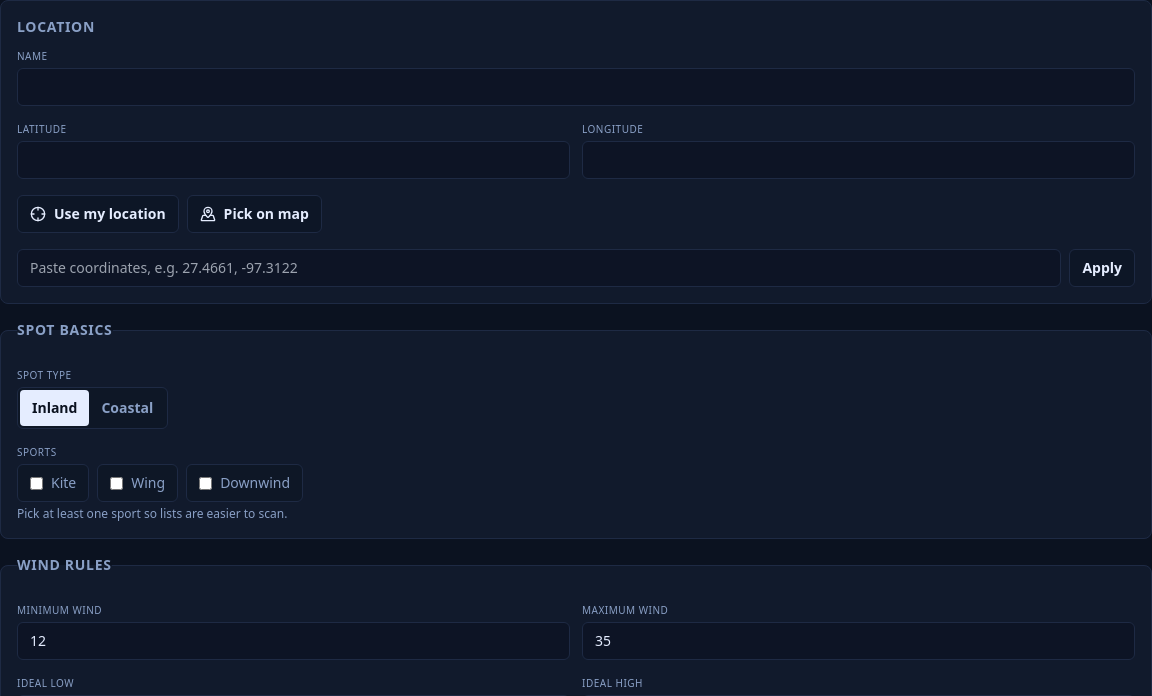
Test: SpotForm › applies pasted coordinates
In the field labelled "Paste coordinates, e.g. 27.4661, -97.3122": (539, 268) [17,249,1061,287], type "27.4661, -97.3122"
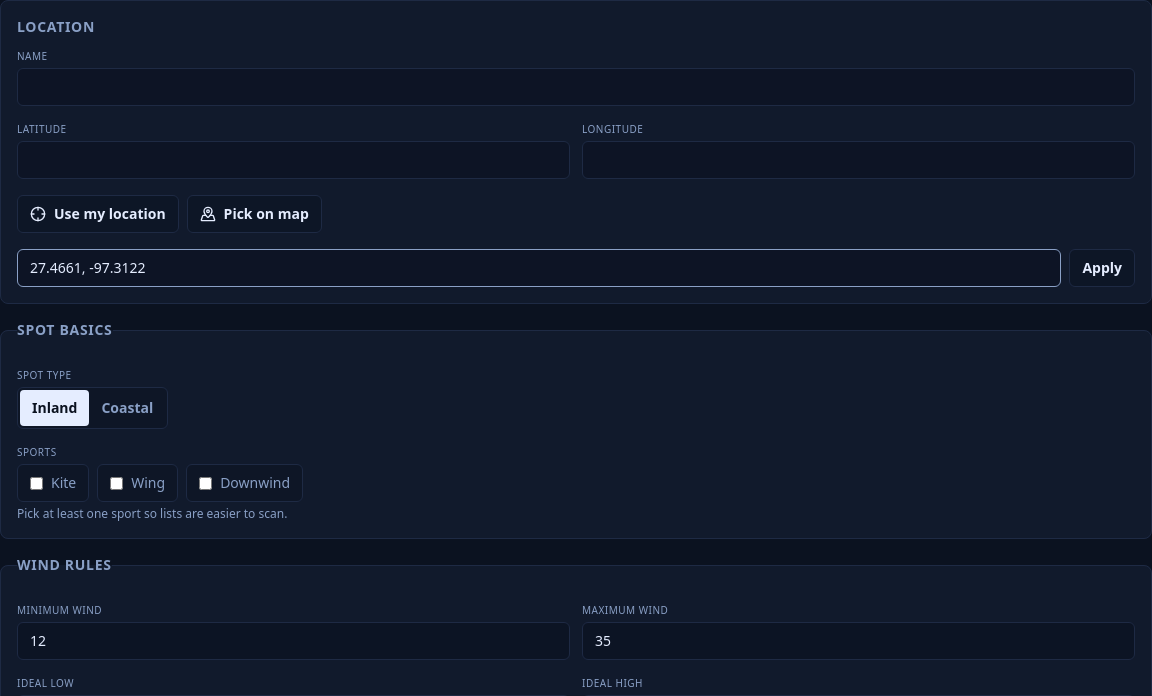
Click the button "Apply": (1102, 268) [1069,249,1135,287]
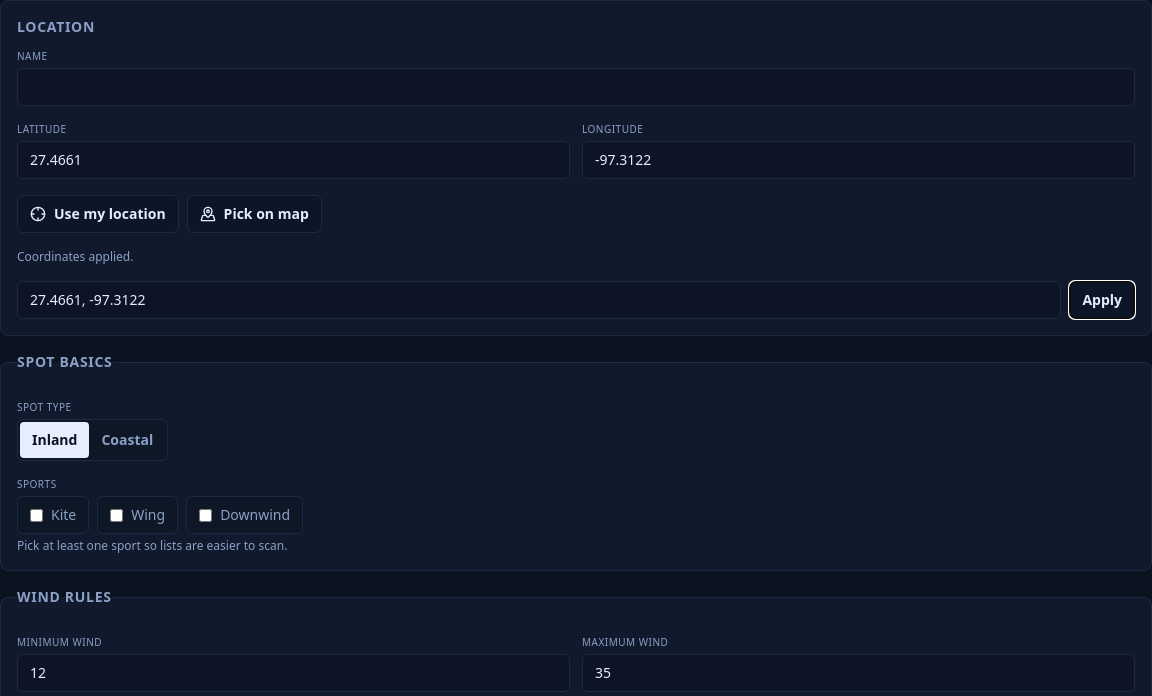
Expected: the field labelled "Latitude" holds "27.4661", [17,141,570,179]
Expected: the field labelled "Longitude" holds "-97.3122", [582,141,1135,179]
